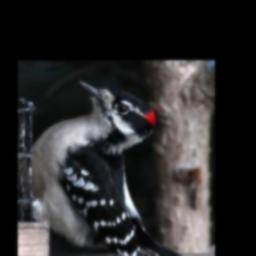Woodpecker: (23, 80, 211, 256)
